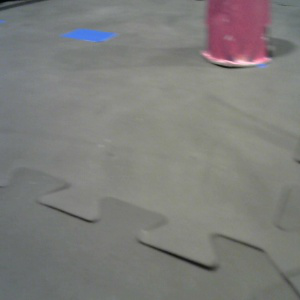Right: (205, 1, 272, 67)
